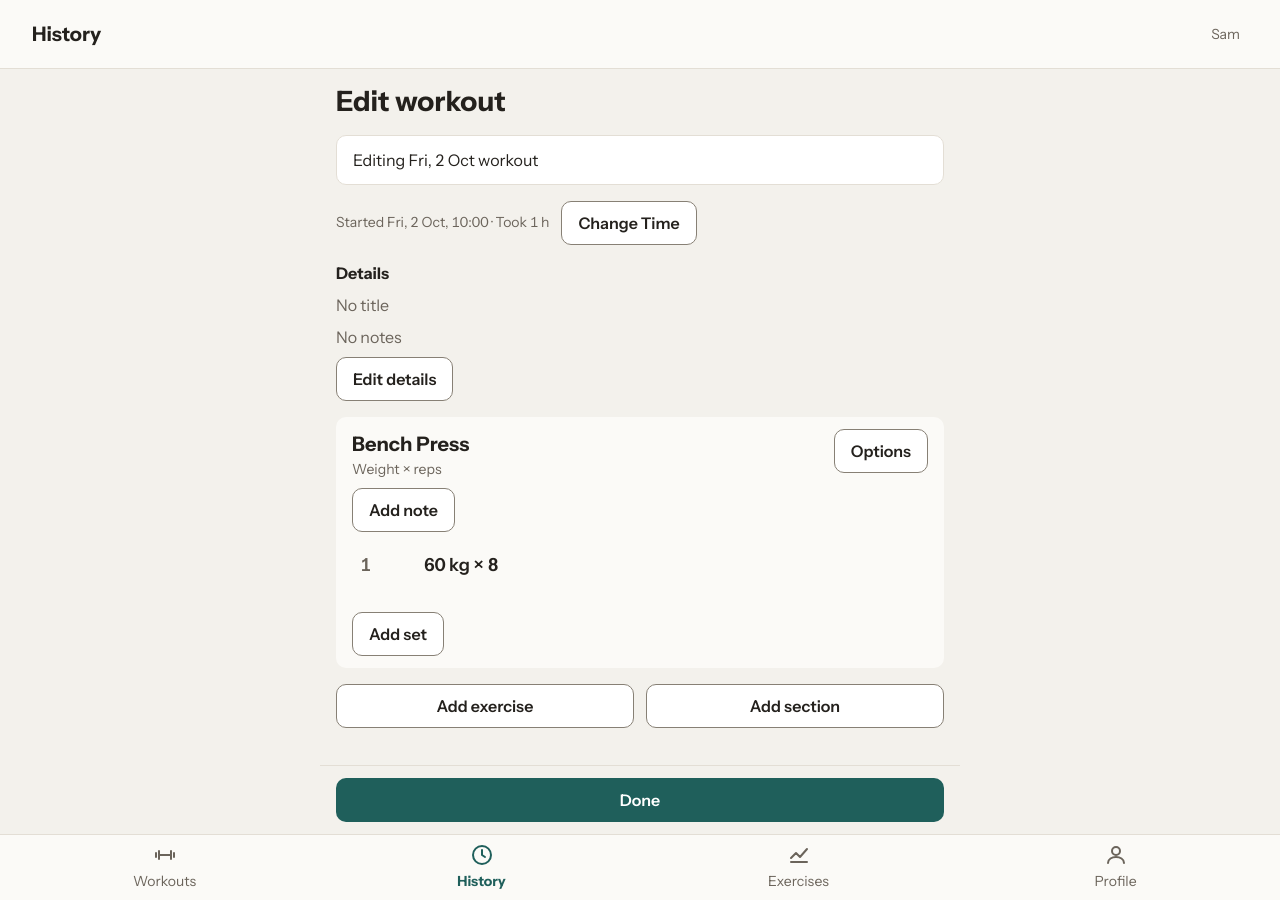
Test: 18.0 AC53 / AC54 — the Details sheet › offline: the sheet stays open with the typed text and the copy; never the server's message
Expected: the heading "Edit workout" is shown, [336,84,506,118]
Click the button "Edit details".
click(395, 379)  # box [336,357,453,401]
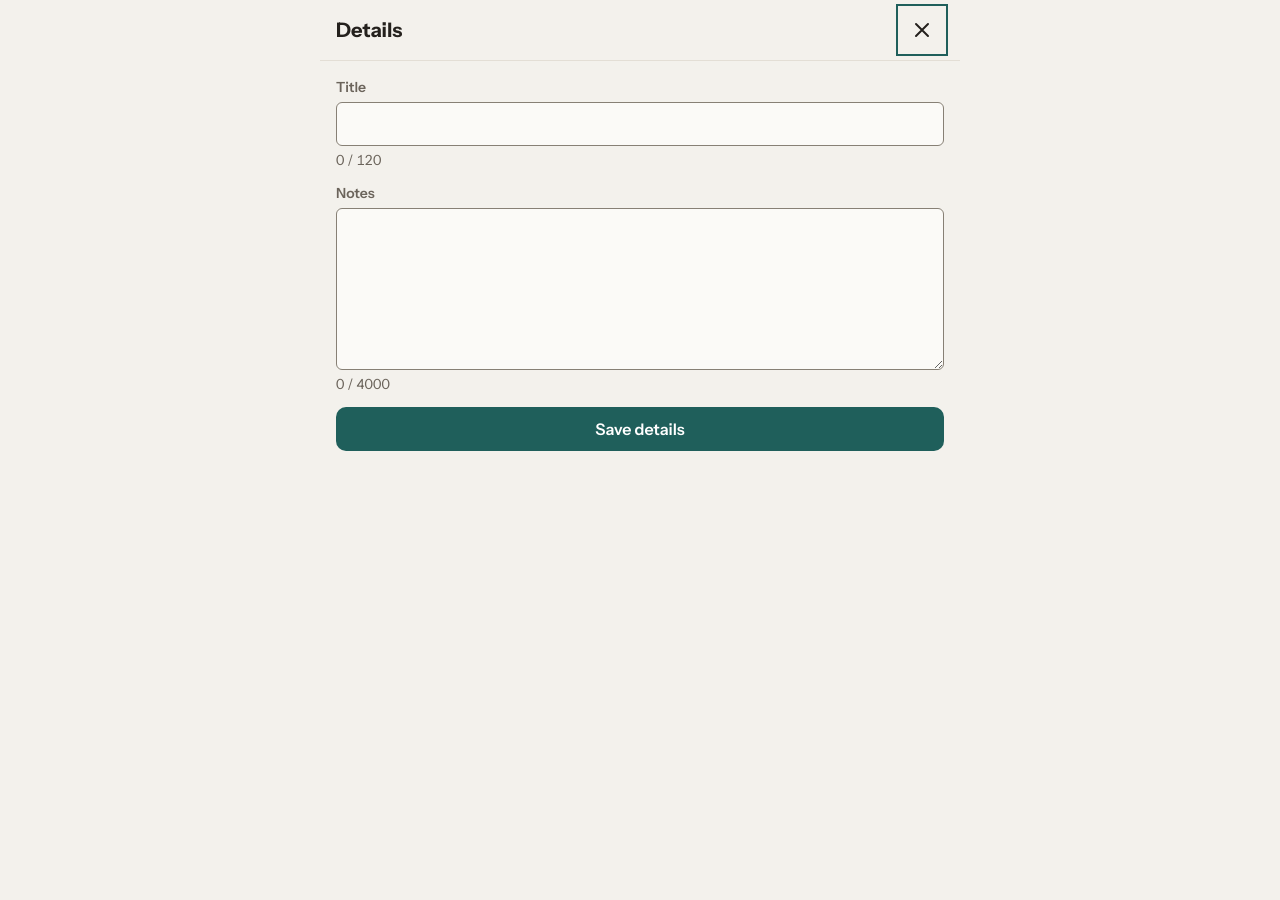
Type "Deload" into the field labelled "Title".
click(640, 124); type("Deload")  # box [336,102,944,146]
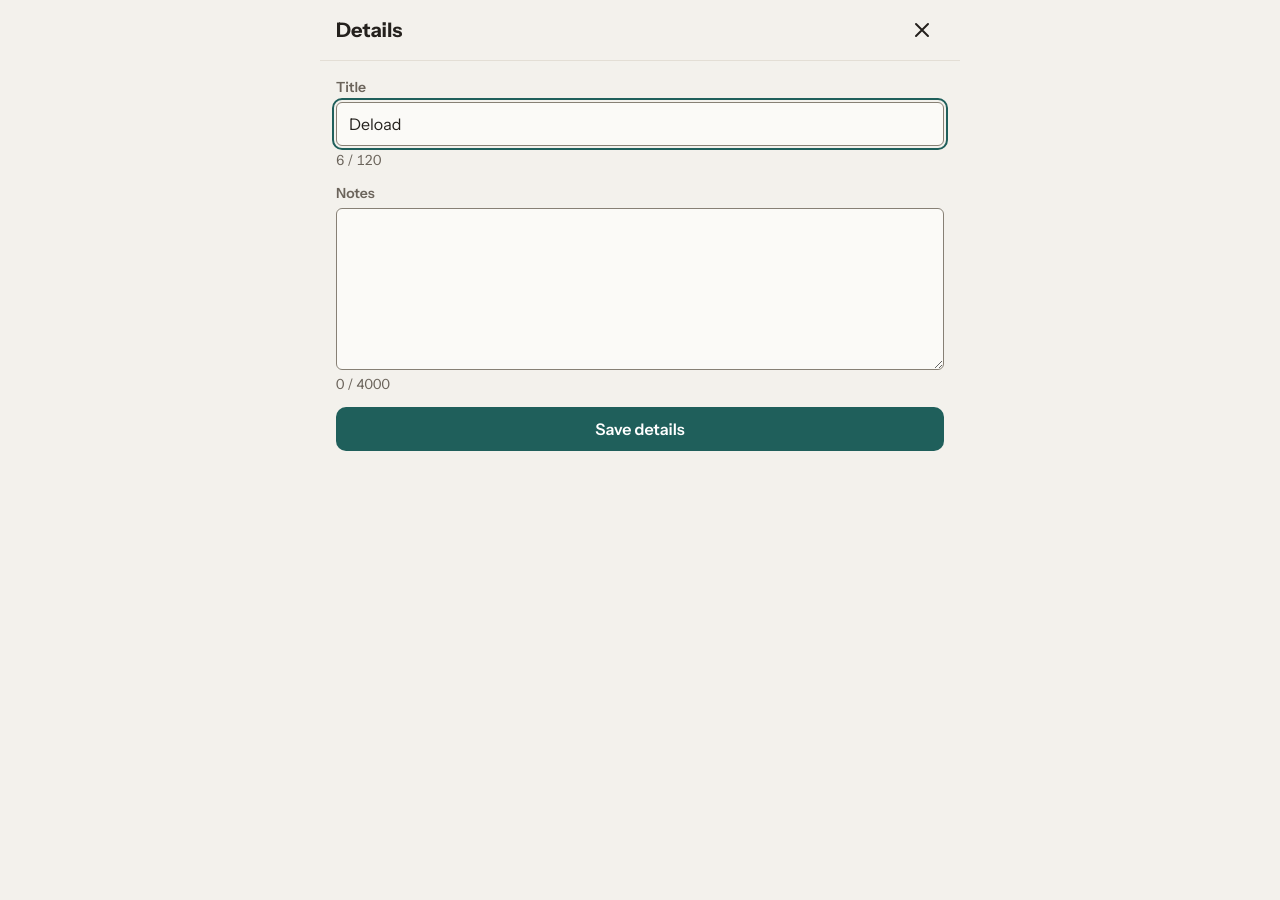
Click the button "Save details".
click(640, 429)  # box [336,407,944,451]
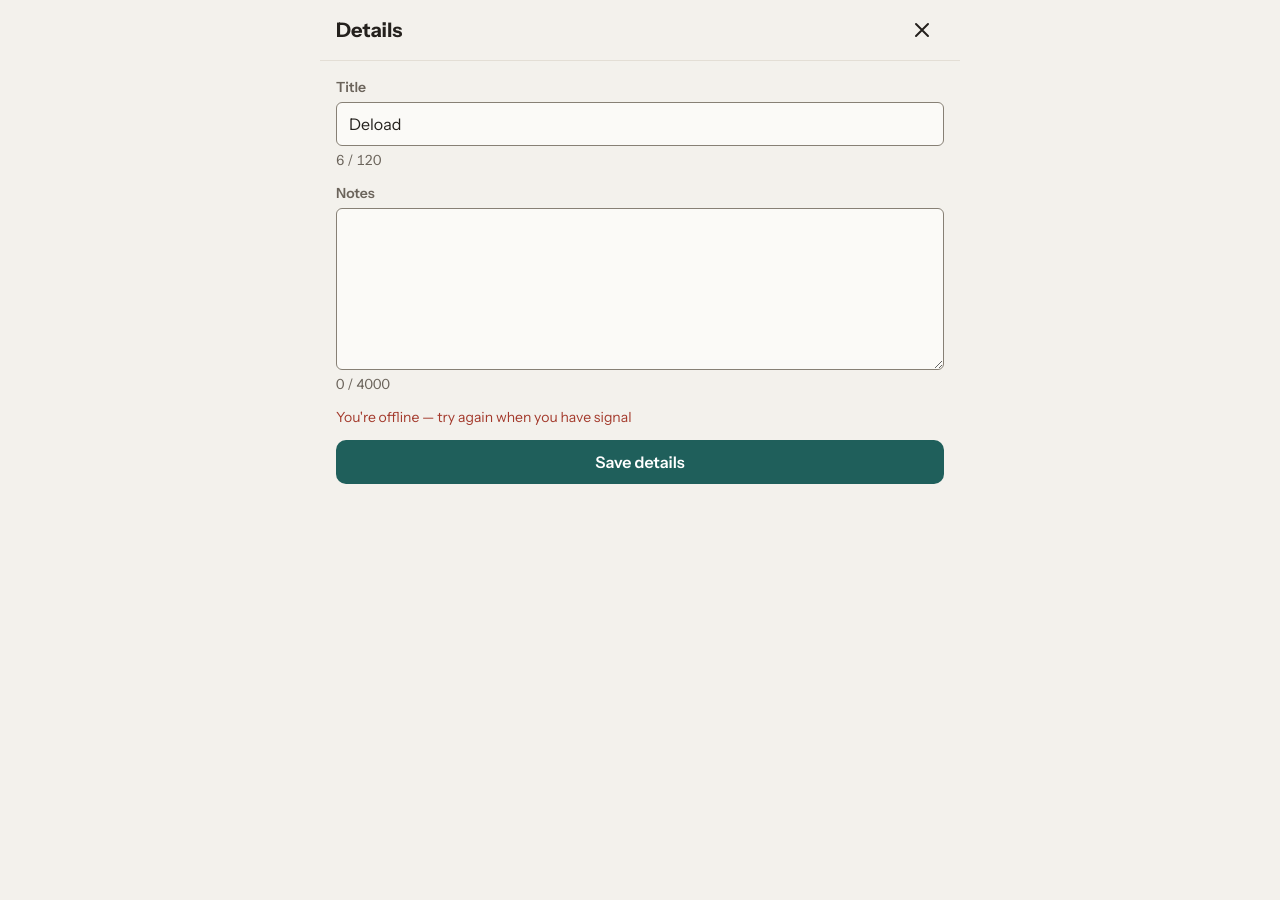
Expected: the text "You're offline — try again when you have signal" is shown, [336,408,632,426]
